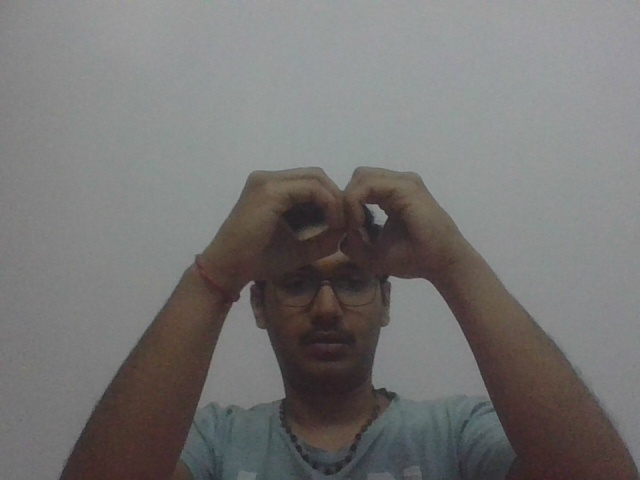B: (219, 158, 467, 280)
